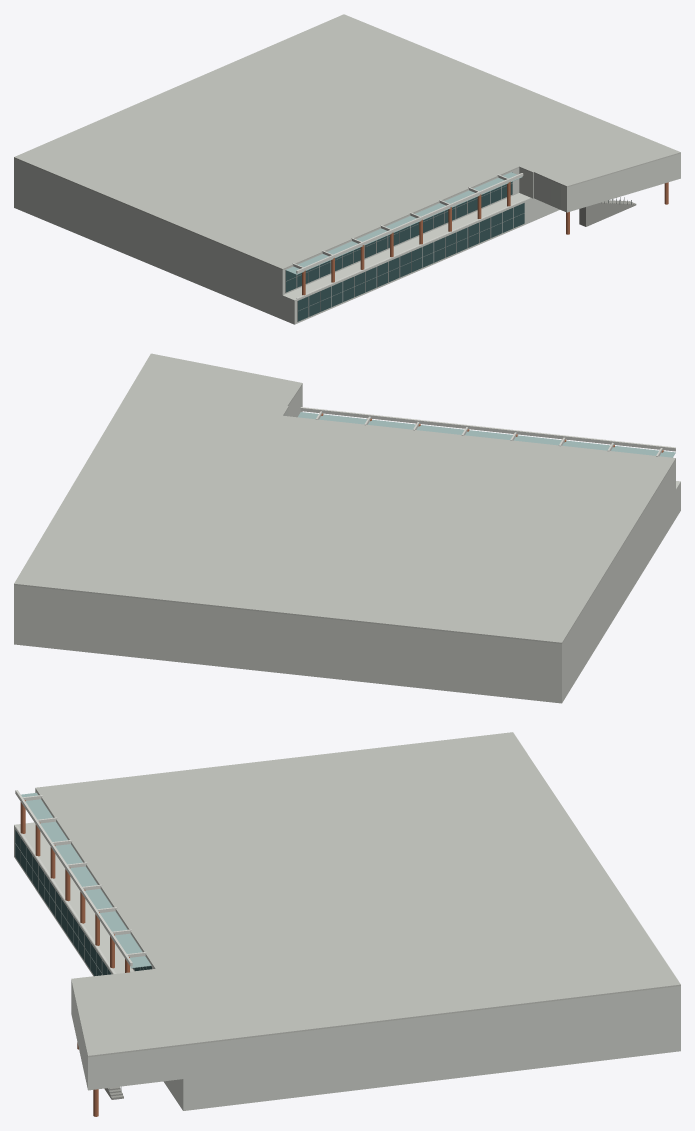
Rendered from SEU_taoyuan_north_canteen_v07.glb.
3 renders of one model, top to bottom at view 1: azimuth 30°, elevation 25°; view 2: azimuth 150°, elevation 25°; view 3: azimuth 270°, elevation 25°, orthographic. The views are drawn at different scales.
Visible parts, largest first — view 1: SEU_B_OSMWAY_630686661_V07__main_roof, SEU_B_OSMWAY_630686661_V07__ground_body, SEU_B_OSMWAY_630686661_V07__upper_main, SEU_B_OSMWAY_630686661_V07__front_glazing, SEU_B_OSMWAY_630686661_V07__cantilever_roof, SEU_B_OSMWAY_630686661_V07__upper_cantilever, SEU_B_OSMWAY_630686661_V07__canopy_glass, SEU_B_OSMWAY_630686661_V07__front_top_beam, SEU_B_OSMWAY_630686661_V07__external_stair, SEU_B_OSMWAY_630686661_V07__round_front_columns, SEU_B_OSMWAY_630686661_V07__glazing_mullions; view 2: SEU_B_OSMWAY_630686661_V07__main_roof, SEU_B_OSMWAY_630686661_V07__upper_main, SEU_B_OSMWAY_630686661_V07__ground_body, SEU_B_OSMWAY_630686661_V07__cantilever_roof, SEU_B_OSMWAY_630686661_V07__canopy_glass, SEU_B_OSMWAY_630686661_V07__front_top_beam; view 3: SEU_B_OSMWAY_630686661_V07__main_roof, SEU_B_OSMWAY_630686661_V07__ground_body, SEU_B_OSMWAY_630686661_V07__upper_main, SEU_B_OSMWAY_630686661_V07__cantilever_roof, SEU_B_OSMWAY_630686661_V07__upper_cantilever, SEU_B_OSMWAY_630686661_V07__canopy_glass, SEU_B_OSMWAY_630686661_V07__front_glazing, SEU_B_OSMWAY_630686661_V07__round_front_columns, SEU_B_OSMWAY_630686661_V07__front_top_beam, SEU_B_OSMWAY_630686661_V07__canopy_rafters.
Boxes of the visible parts, bbox=[...] form: SEU_B_OSMWAY_630686661_V07__main_roof: bbox=[14, 14, 614, 269]; SEU_B_OSMWAY_630686661_V07__ground_body: bbox=[14, 183, 559, 324]; SEU_B_OSMWAY_630686661_V07__upper_main: bbox=[14, 158, 519, 295]; SEU_B_OSMWAY_630686661_V07__front_glazing: bbox=[286, 172, 524, 321]; SEU_B_OSMWAY_630686661_V07__cantilever_roof: bbox=[519, 125, 680, 187]; SEU_B_OSMWAY_630686661_V07__upper_cantilever: bbox=[519, 153, 680, 212]; SEU_B_OSMWAY_630686661_V07__canopy_glass: bbox=[285, 172, 522, 274]; SEU_B_OSMWAY_630686661_V07__front_top_beam: bbox=[296, 173, 523, 273]; SEU_B_OSMWAY_630686661_V07__external_stair: bbox=[579, 200, 636, 226]; SEU_B_OSMWAY_630686661_V07__round_front_columns: bbox=[302, 181, 510, 295]; SEU_B_OSMWAY_630686661_V07__glazing_mullions: bbox=[285, 186, 513, 321]; SEU_B_OSMWAY_630686661_V07__main_roof: bbox=[14, 398, 675, 643]; SEU_B_OSMWAY_630686661_V07__upper_main: bbox=[14, 460, 675, 674]; SEU_B_OSMWAY_630686661_V07__ground_body: bbox=[14, 481, 680, 703]; SEU_B_OSMWAY_630686661_V07__cantilever_roof: bbox=[124, 353, 302, 415]; SEU_B_OSMWAY_630686661_V07__canopy_glass: bbox=[298, 412, 675, 457]; SEU_B_OSMWAY_630686661_V07__front_top_beam: bbox=[300, 407, 675, 451]; SEU_B_OSMWAY_630686661_V07__main_roof: bbox=[35, 732, 680, 1043]; SEU_B_OSMWAY_630686661_V07__ground_body: bbox=[14, 822, 680, 1110]; SEU_B_OSMWAY_630686661_V07__upper_main: bbox=[35, 790, 680, 1076]; SEU_B_OSMWAY_630686661_V07__cantilever_roof: bbox=[71, 969, 204, 1057]; SEU_B_OSMWAY_630686661_V07__upper_cantilever: bbox=[71, 982, 204, 1090]; SEU_B_OSMWAY_630686661_V07__canopy_glass: bbox=[21, 792, 151, 968]; SEU_B_OSMWAY_630686661_V07__front_glazing: bbox=[15, 830, 151, 975]; SEU_B_OSMWAY_630686661_V07__round_front_columns: bbox=[20, 800, 129, 972]; SEU_B_OSMWAY_630686661_V07__front_top_beam: bbox=[15, 790, 132, 966]; SEU_B_OSMWAY_630686661_V07__canopy_rafters: bbox=[23, 795, 146, 957].
Bounding box in the file's own units: 97.41 × 9.7 × 84.8.
